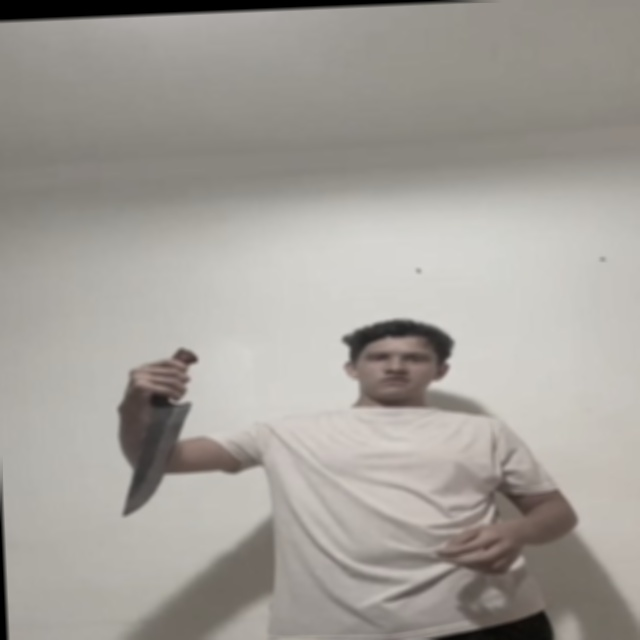Sharp-Object: (114, 402, 203, 516)
